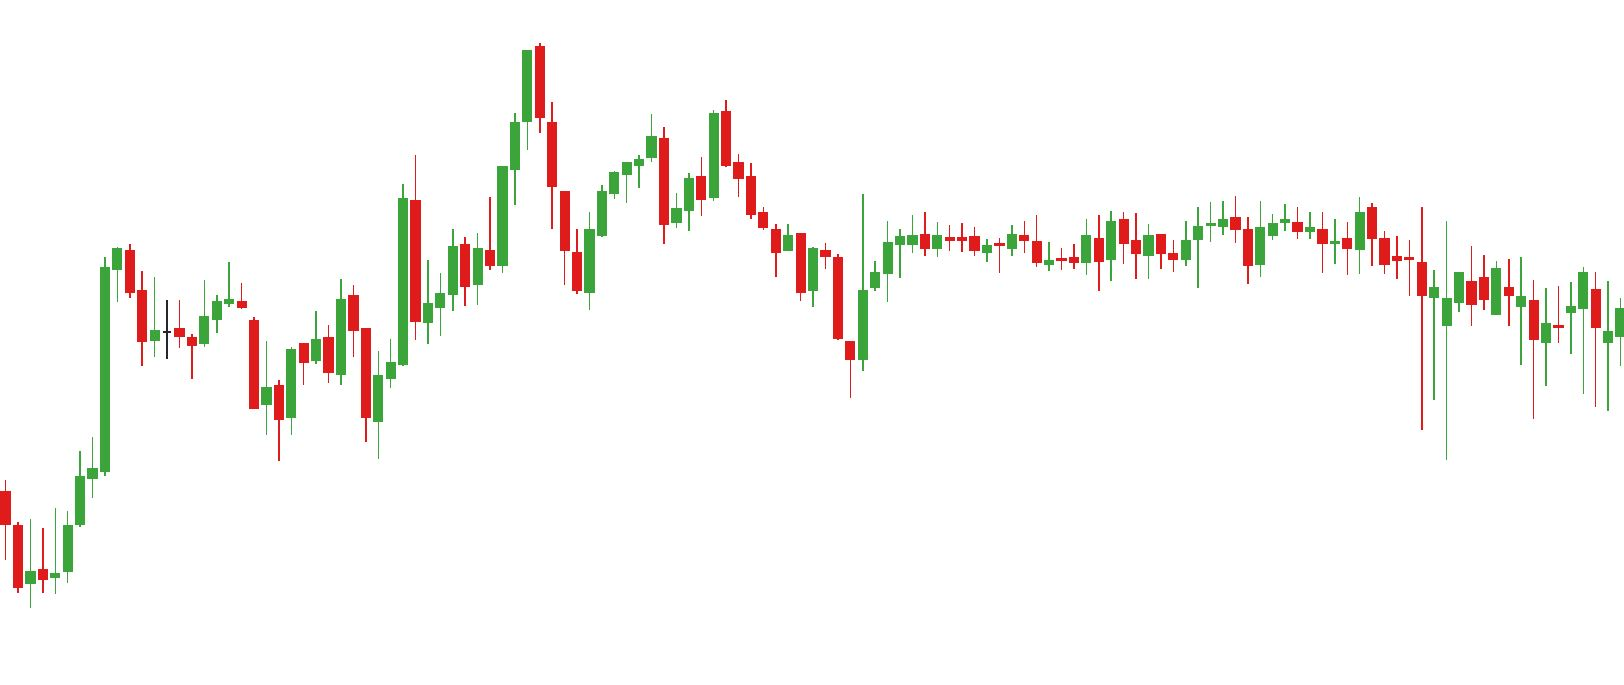sell: (644, 98, 733, 212)
